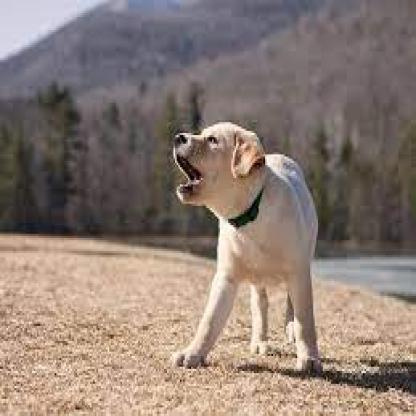dog: (164, 111, 318, 382)
